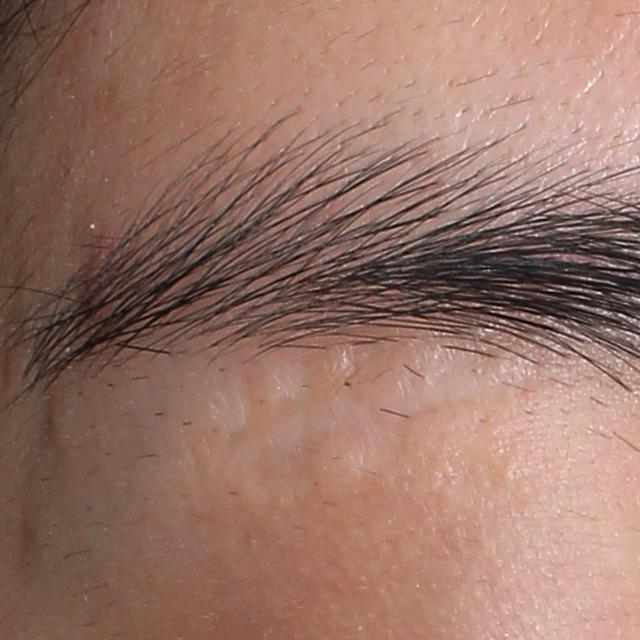other: (212, 356, 579, 487), (194, 360, 258, 448), (254, 348, 315, 420), (314, 342, 361, 401)
